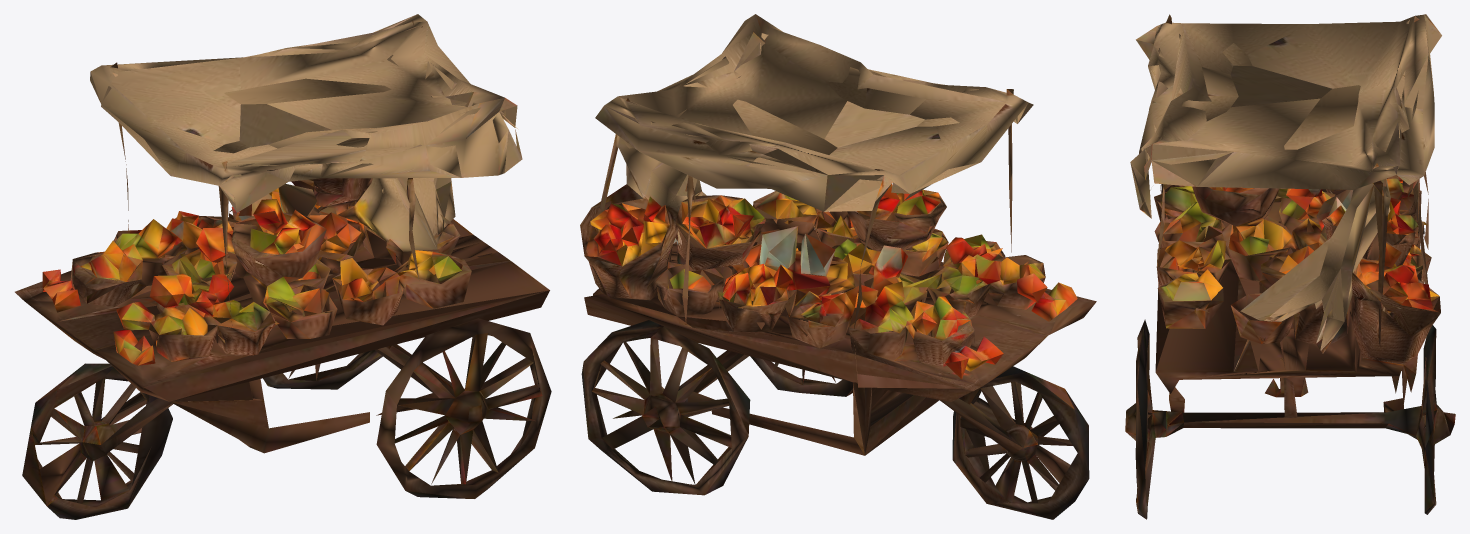
The model's file is la_fruit_cart.glb.
The picture shows the model from 3 angles, left to right: view 1: azimuth 30°, elevation 25°; view 2: azimuth 150°, elevation 25°; view 3: azimuth 270°, elevation 25°; orthographic projection. The views are drawn at different scales.
Parts seen in each view (by area): view 1: la_fruit_cart; view 2: la_fruit_cart; view 3: la_fruit_cart.
Part boxes in pixels (box(x1,y1,x2,y2)): la_fruit_cart: box(15, 14, 551, 519); la_fruit_cart: box(580, 14, 1096, 519); la_fruit_cart: box(1125, 14, 1455, 519).
Size of the model in its own units: 2.19 by 1.73 by 1.34.
Materials: 1 (1 with a texture image).
